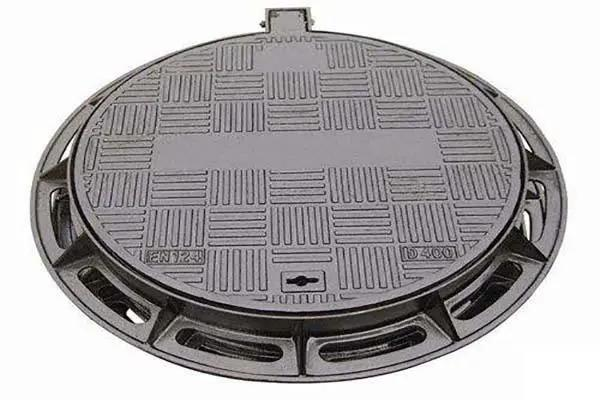wellcover: (41, 6, 552, 369)
